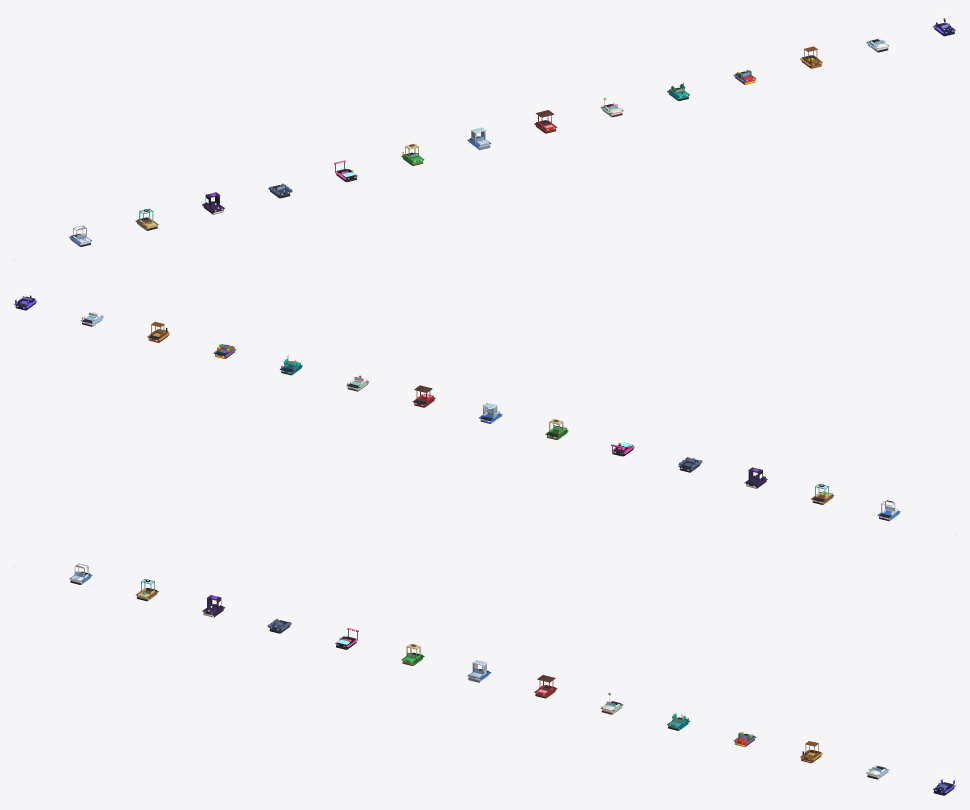
The model's file is Bodies_A.fbx.
3 renders of one model, top to bottom at view 1: azimuth 30°, elevation 25°; view 2: azimuth 150°, elevation 25°; view 3: azimuth 330°, elevation 25°, orthographic.
Bounding box in the file's own units: 423 × 7.7 × 9.89.
